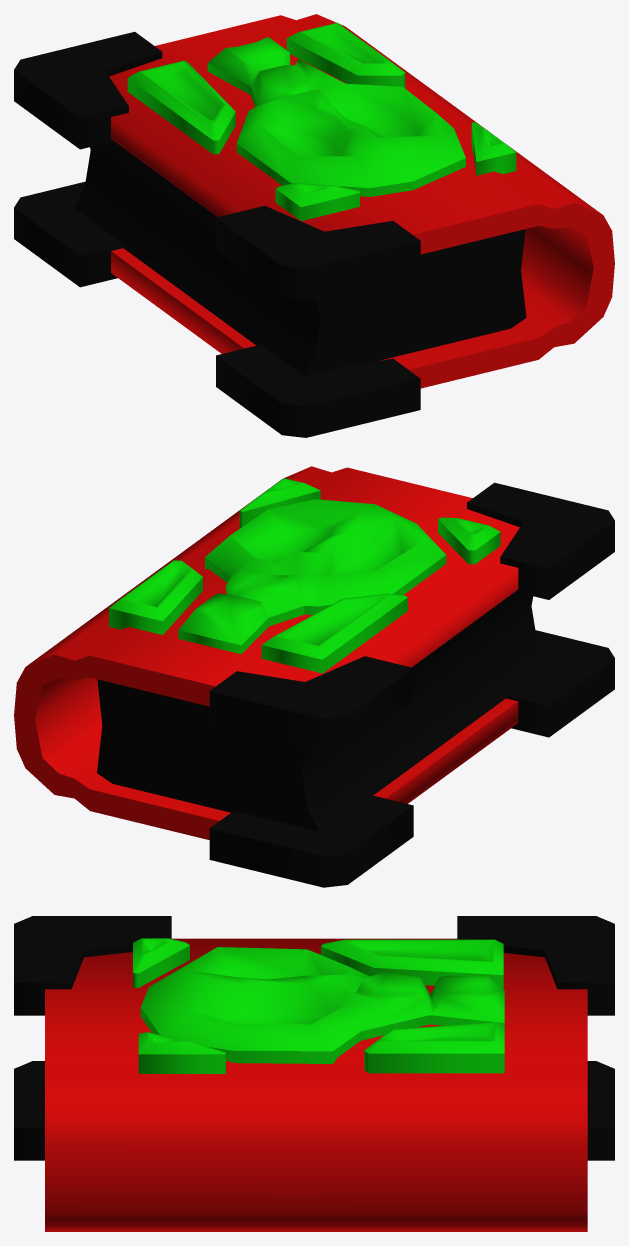
Rendered from Book_F.fbx.
3 renders of one model, top to bottom at view 1: azimuth 30°, elevation 25°; view 2: azimuth 150°, elevation 25°; view 3: azimuth 270°, elevation 25°, orthographic. The views are drawn at different scales.
Parts seen in each view (by area): view 1: U_Book_F; view 2: U_Book_F; view 3: U_Book_F.
Part boxes in pixels (x1,y1,x2,y2): U_Book_F: [14, 14, 614, 437]; U_Book_F: [14, 466, 614, 887]; U_Book_F: [14, 916, 614, 1231].
Bounding box in the file's own units: 44.35 × 24.83 × 64.76.
